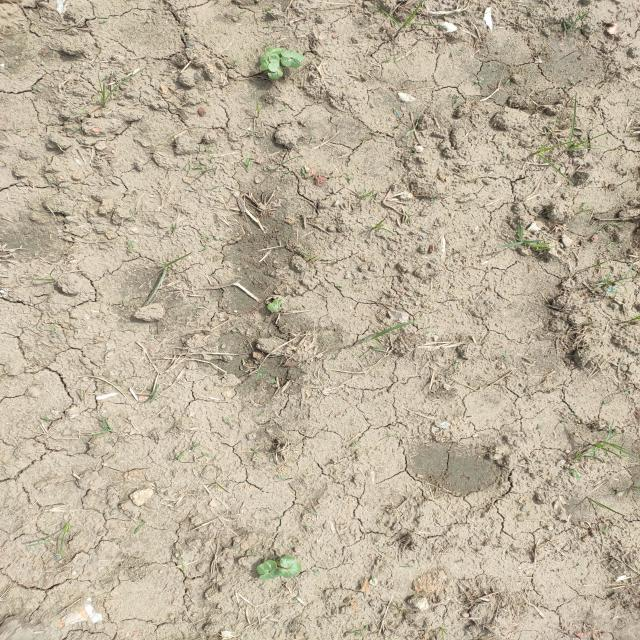seedling_s2: (275, 556, 301, 578), (257, 560, 277, 575), (281, 50, 305, 61), (281, 57, 301, 68), (268, 54, 280, 72), (259, 569, 278, 580), (260, 55, 269, 70), (267, 70, 279, 81), (265, 50, 281, 57), (277, 66, 284, 77), (267, 46, 282, 51)
